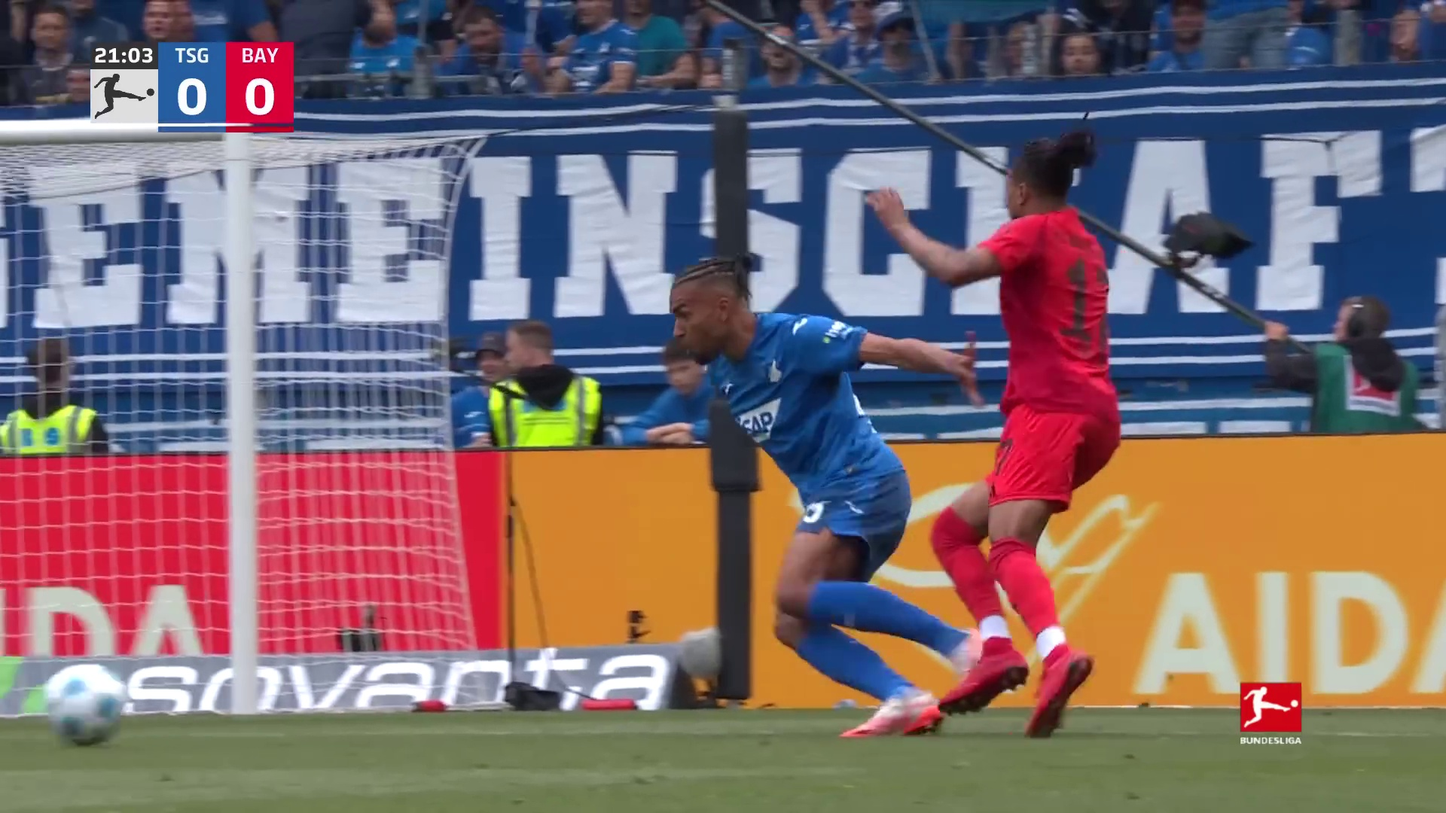ball: (41, 661, 127, 754)
player: (859, 118, 1129, 737), (662, 241, 996, 734), (665, 503, 678, 505)
